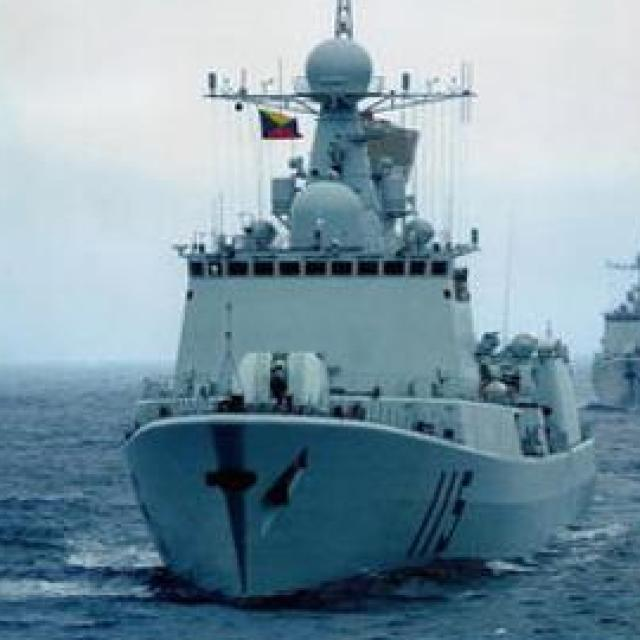navalvessels: (109, 0, 586, 600), (566, 213, 640, 407)
